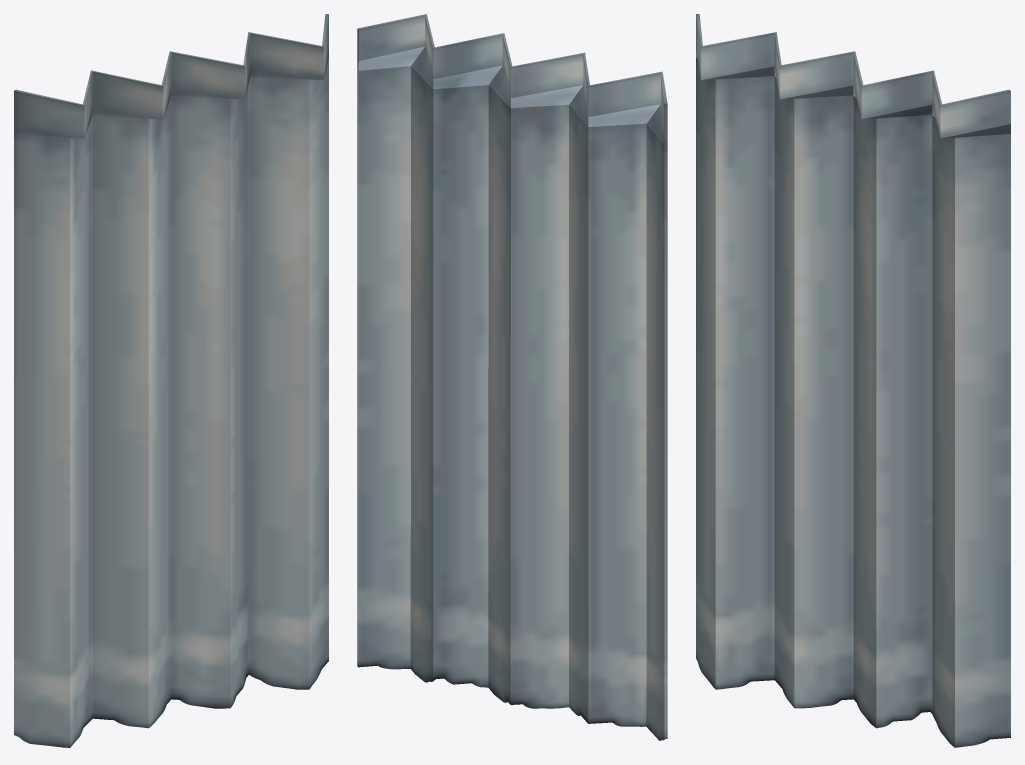
File: Inside_Poly_Curtain_01.obj
3 renders of one model, left to right at view 1: azimuth 30°, elevation 25°; view 2: azimuth 150°, elevation 25°; view 3: azimuth 330°, elevation 25°, orthographic.
Visible parts, largest first — view 1: Plane.001; view 2: Plane.001; view 3: Plane.001.
Part boxes in pixels (x1,y1,x2,y2): Plane.001: [14, 14, 328, 747]; Plane.001: [357, 14, 667, 740]; Plane.001: [696, 14, 1010, 747].
Bounding box in the file's own units: 1 × 1.99 × 0.19.
Materials: 1 (1 with a texture image).
